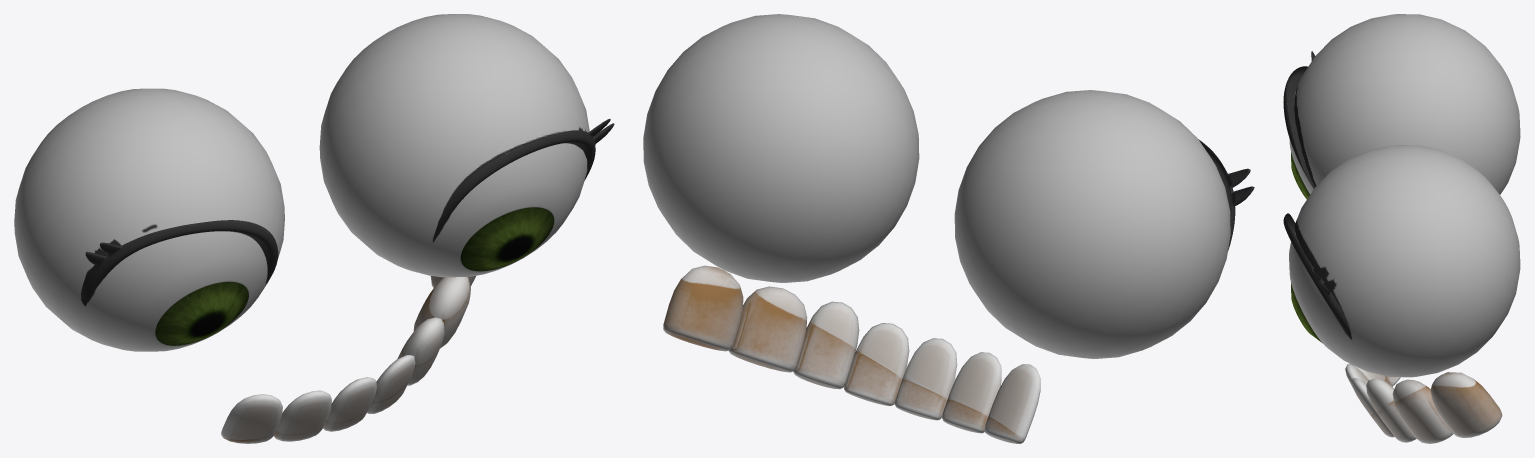
The model's file is eyes.glb.
3 renders of one model, left to right at view 1: azimuth 30°, elevation 25°; view 2: azimuth 150°, elevation 25°; view 3: azimuth 270°, elevation 25°, orthographic. The views are drawn at different scales.
Parts seen in each view (by area): view 1: Eyes; view 2: Eyes; view 3: Eyes.
Part boxes in pixels (box(x1,y1,x2,y2)): Eyes: box(14, 14, 614, 443); Eyes: box(643, 14, 1254, 443); Eyes: box(1283, 14, 1520, 443).
Bounding box in the file's own units: 0.6506 × 0.4165 × 0.2799.
1 material, 1 textured.
